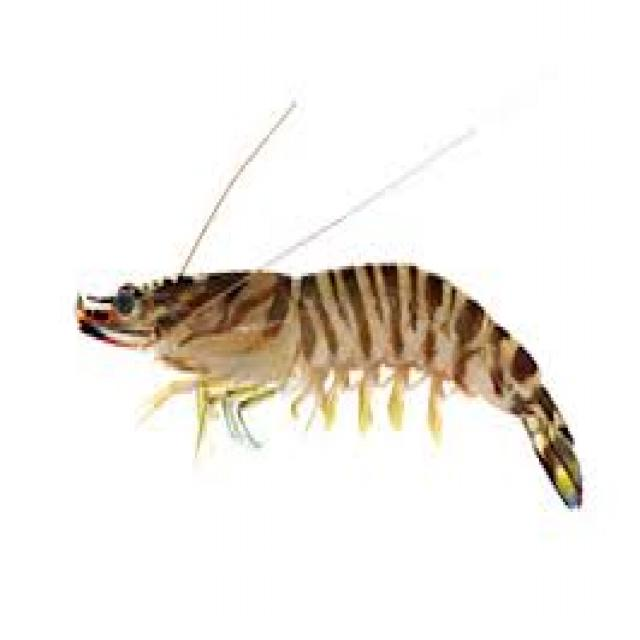shrimp: (37, 152, 624, 552)
